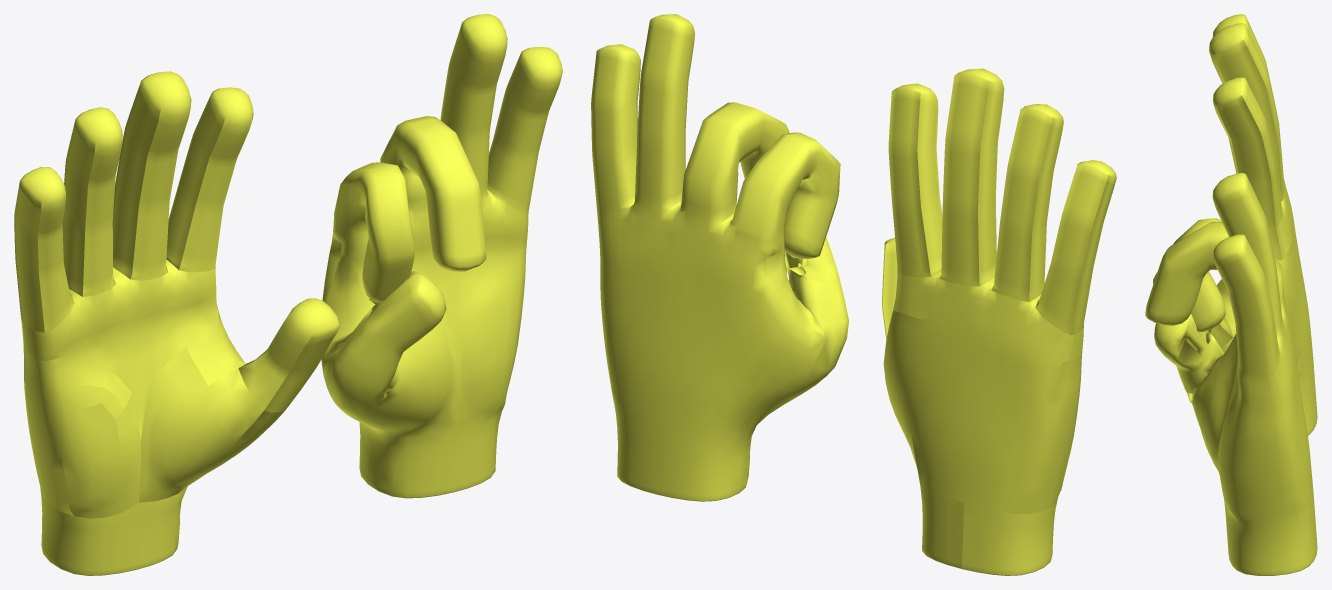
The picture shows the model from 3 angles, left to right: view 1: azimuth 30°, elevation 25°; view 2: azimuth 150°, elevation 25°; view 3: azimuth 270°, elevation 25°; orthographic projection. The views are drawn at different scales.
Visible parts, largest first — view 1: uploads_files_810024_Hand.001, uploads_files_810024_Hand; view 2: uploads_files_810024_Hand, uploads_files_810024_Hand.001; view 3: uploads_files_810024_Hand, uploads_files_810024_Hand.001.
Boxes of the visible parts, <box> form: uploads_files_810024_Hand.001: <box>14,71,340,575</box>; uploads_files_810024_Hand: <box>321,14,562,498</box>; uploads_files_810024_Hand: <box>591,14,848,501</box>; uploads_files_810024_Hand.001: <box>882,68,1116,575</box>; uploads_files_810024_Hand: <box>1145,173,1317,575</box>; uploads_files_810024_Hand.001: <box>1153,14,1317,435</box>.
Size of the model in its own units: 3.29 by 2.84 by 1.08.
